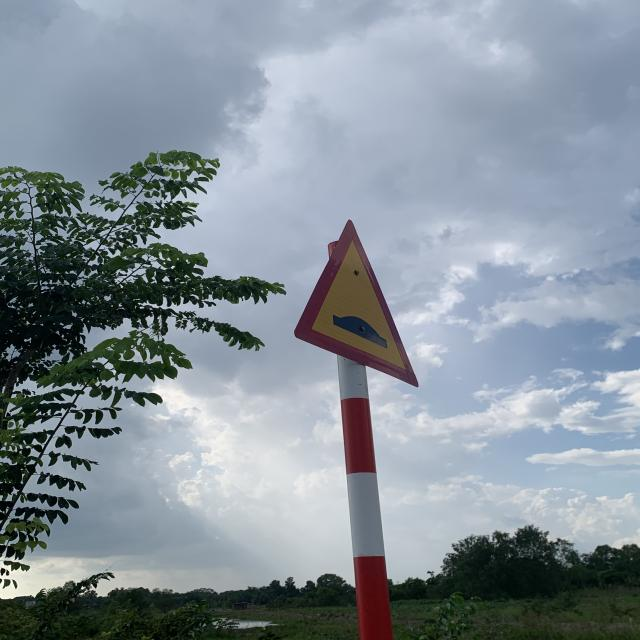Duong_Cong_Ben_Phai: (294, 219, 421, 389)
